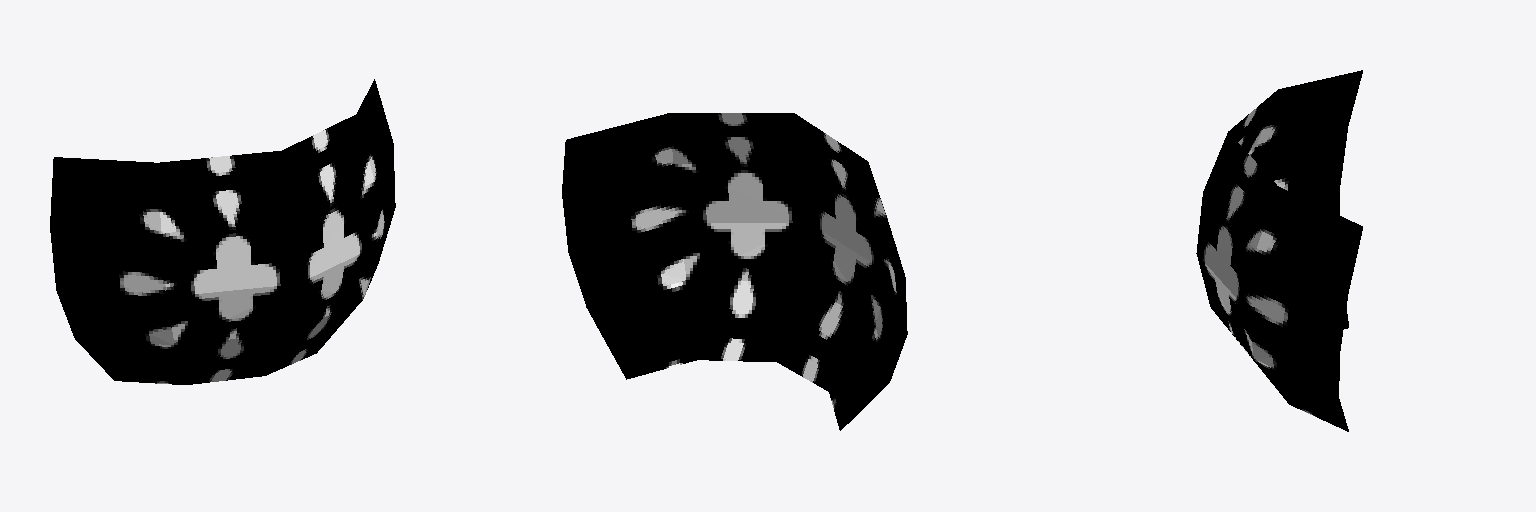
3 views of the same model, side by side, from view 1: azimuth 30°, elevation 25°; view 2: azimuth 150°, elevation 25°; view 3: azimuth 270°, elevation 25° (orthographic).
Parts seen in each view (by area): view 1: polygon0; view 2: polygon0; view 3: polygon0.
Part boxes in pixels (left/top/right/bottom): polygon0: left=50, top=79, right=395, bottom=384; polygon0: left=562, top=113, right=907, bottom=430; polygon0: left=1196, top=70, right=1362, bottom=431.
Bounding box in the file's own units: 4.04 × 2.79 × 1.7.
Materials: 1 (1 with a texture image).